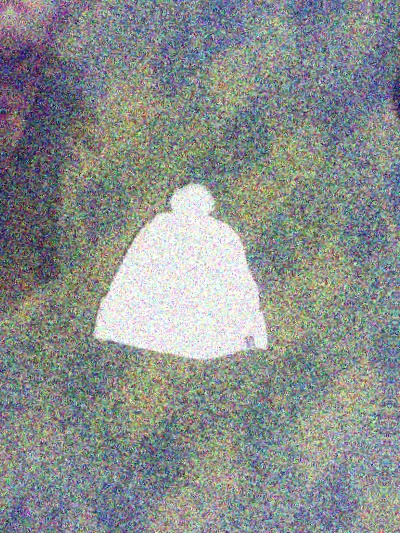Hat: (86, 144, 305, 379)
